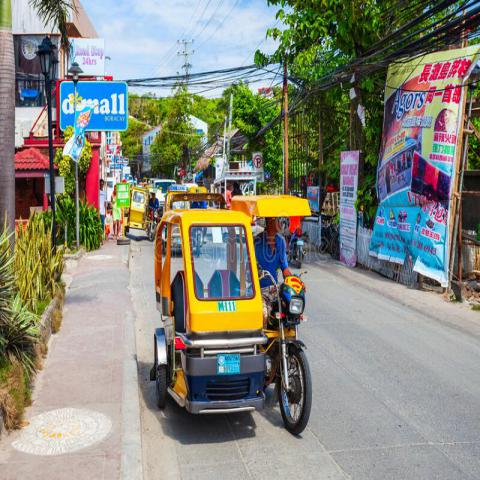motorcycle: (149, 199, 311, 432), (128, 185, 159, 240), (289, 223, 312, 276)
